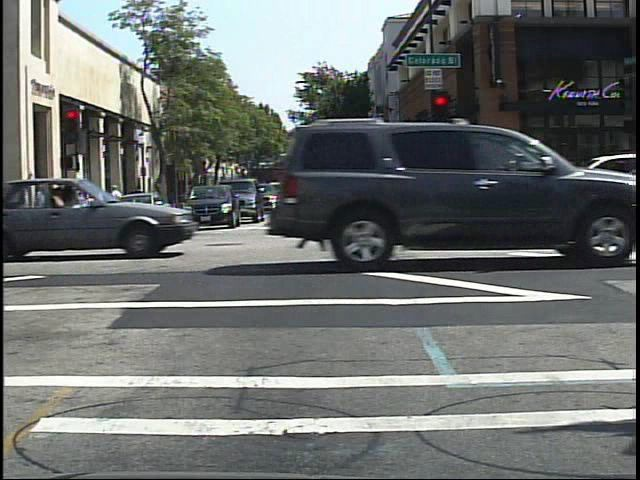person: (105, 181, 126, 228)
